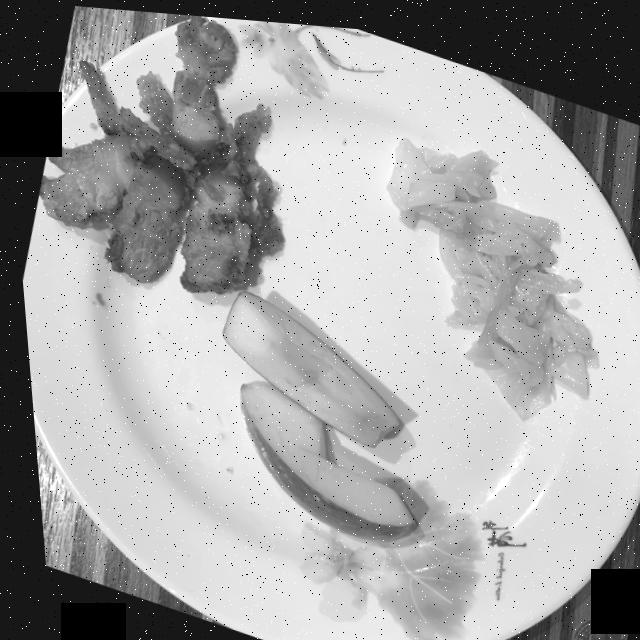apple -sliced-: (217, 286, 408, 535)
cabbage: (385, 130, 592, 410)
coin: (562, 609, 617, 640)
red grilled pork: (35, 13, 279, 289)
